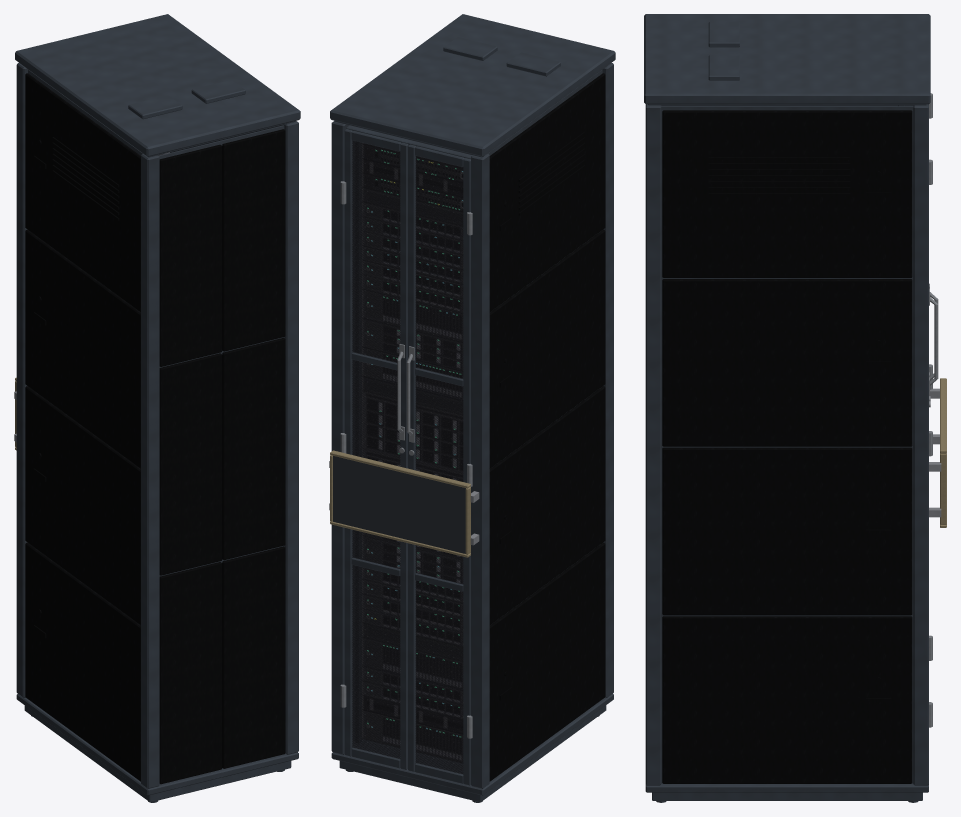
The model's file is server_rack_label.glb.
3 renders of one model, left to right at view 1: azimuth 30°, elevation 25°; view 2: azimuth 150°, elevation 25°; view 3: azimuth 270°, elevation 25°, orthographic. The views are drawn at different scales.
Parts seen in each view (by area): view 1: BackPanel, SidePanels, Frame; view 2: SidePanels, Frame, ServerFace, Door_XP, Door_XN, LabelPanel, Rails, LabelBezel; view 3: SidePanels, Frame, LabelBezel, Door_XP.
Part boxes in pixels (x1,y1,x2,y2): BackPanel: (159, 129, 285, 784); SidePanels: (25, 73, 140, 781); Frame: (15, 14, 300, 802); SidePanels: (489, 73, 605, 781); Frame: (330, 14, 615, 802); ServerFace: (362, 143, 462, 762); Door_XP: (340, 129, 408, 769); Door_XN: (406, 144, 472, 785); LabelPanel: (333, 456, 465, 553); Rails: (355, 141, 361, 742); LabelBezel: (330, 450, 470, 557); SidePanels: (662, 110, 912, 783); Frame: (644, 14, 930, 802); LabelBezel: (940, 378, 946, 527); Door_XP: (929, 159, 938, 727).
Bounding box in the file's own units: 12.2 × 50.33 × 19.23.
11 materials, 7 textured.
